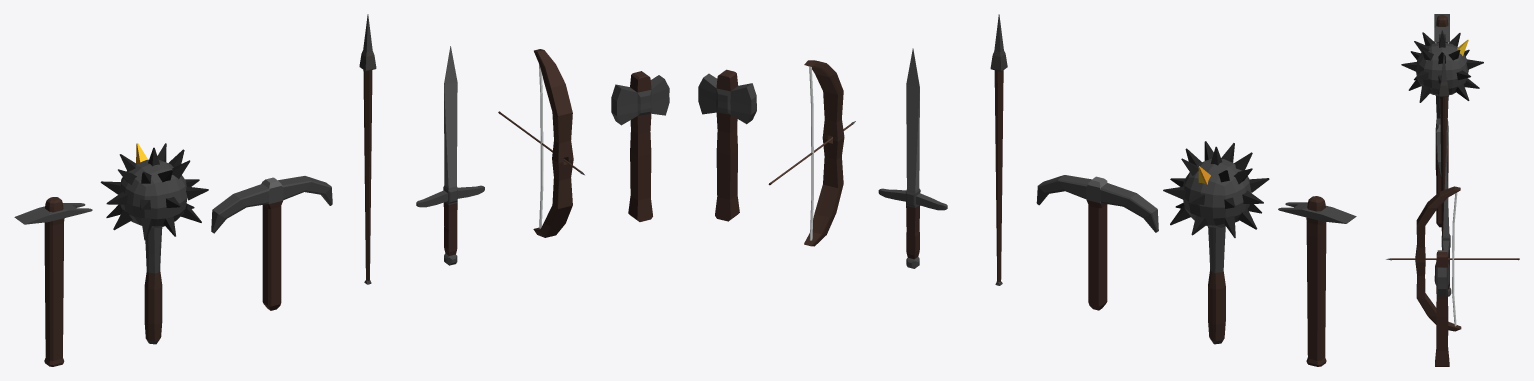
The model's file is packGlb.glb.
3 renders of one model, left to right at view 1: azimuth 30°, elevation 25°; view 2: azimuth 150°, elevation 25°; view 3: azimuth 270°, elevation 25°, orthographic. The views are drawn at different scales.
Visible parts, largest first — view 1: Cube.003, Cube.004, Cube, Cube.002, Cube.007, Cube.006, Cube.005; view 2: Cube.003, Cube.004, Cube, Cube.002, Cube.007, Cube.006, Cube.005; view 3: Cube.003, Cube.002, Cube, Cube.005, Cube.004, Cube.006, Cube.007, Cube.001.
Boxes of the visible parts, x1=… form: Cube.003: x1=100, y1=143, x2=208, y2=344; Cube.004: x1=211, y1=176, x2=332, y2=310; Cube: x1=611, y1=71, x2=669, y2=221; Cube.002: x1=533, y1=49, x2=573, y2=237; Cube.007: x1=14, y1=197, x2=92, y2=366; Cube.006: x1=416, y1=46, x2=484, y2=265; Cube.005: x1=359, y1=14, x2=376, y2=284; Cube.003: x1=1163, y1=141, x2=1269, y2=344; Cube.004: x1=1036, y1=175, x2=1158, y2=310; Cube: x1=698, y1=69, x2=756, y2=221; Cube.002: x1=804, y1=60, x2=844, y2=246; Cube.007: x1=1278, y1=196, x2=1356, y2=366; Cube.006: x1=878, y1=48, x2=947, y2=268; Cube.005: x1=990, y1=14, x2=1007, y2=285; Cube.003: x1=1401, y1=30, x2=1483, y2=175; Cube.002: x1=1415, y1=186, x2=1461, y2=331; Cube: x1=1434, y1=250, x2=1449, y2=366; Cube.005: x1=1439, y1=53, x2=1448, y2=249; Cube.004: x1=1435, y1=118, x2=1448, y2=227; Cube.006: x1=1441, y1=130, x2=1451, y2=296; Cube.007: x1=1434, y1=14, x2=1449, y2=43; Cube.001: x1=1386, y1=258, x2=1519, y2=260.
Bounding box in the file's own units: 3.35 × 1.37 × 0.7755.
8 materials, 8 textured.
